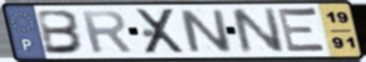B: (35, 9, 87, 56)
E: (275, 5, 330, 55)
N: (227, 6, 288, 55), (176, 8, 236, 54)
R: (77, 9, 135, 55)
X: (134, 7, 189, 56)
